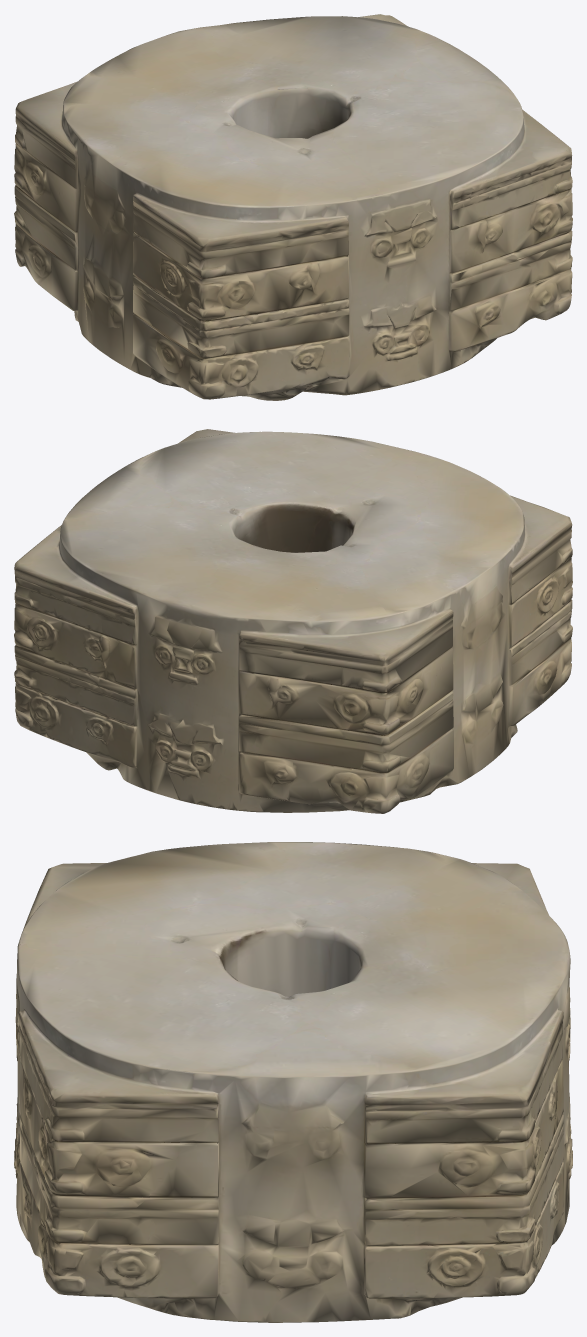
File: liangzhu.glb
The picture shows the model from 3 angles, top to bottom: view 1: azimuth 30°, elevation 25°; view 2: azimuth 150°, elevation 25°; view 3: azimuth 270°, elevation 25°; orthographic projection. The views are drawn at different scales.
Visible parts, largest first — view 1: node_0; view 2: node_0; view 3: node_0.
Part boxes in pixels (<box>): node_0: <box>14,14,572,400</box>; node_0: <box>14,429,572,813</box>; node_0: <box>14,842,572,1322</box>.
Size of the model in its own units: 0.891 by 0.4457 by 0.8876.
1 material, 1 textured.
